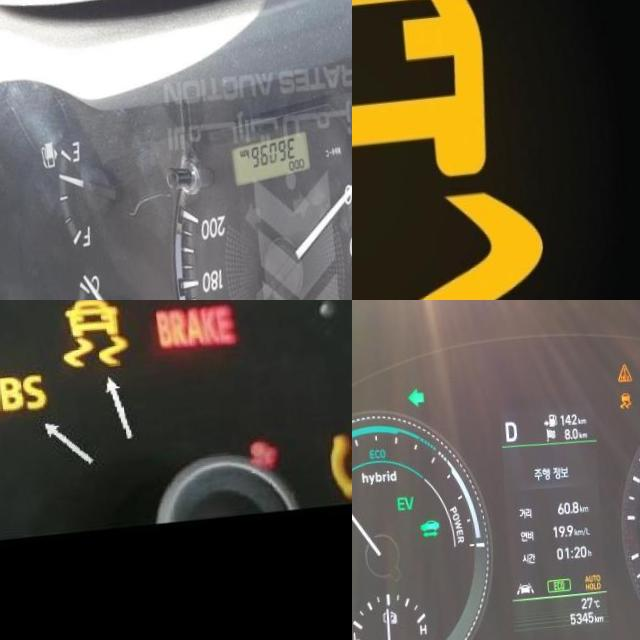LaneCenteringOff: (506, 586, 526, 602)
